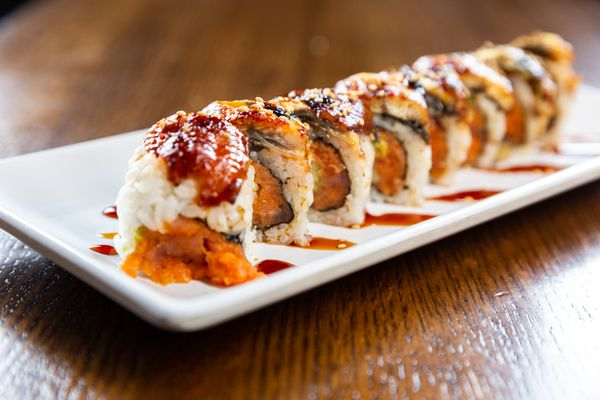curry: (3, 1, 598, 396), (2, 156, 600, 392)
